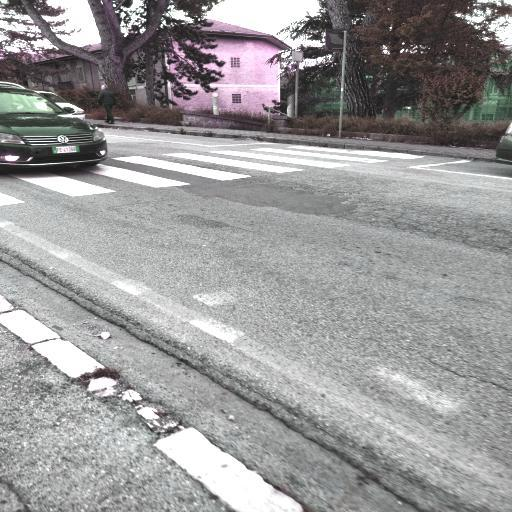crosswalk: (160, 149, 354, 180)
